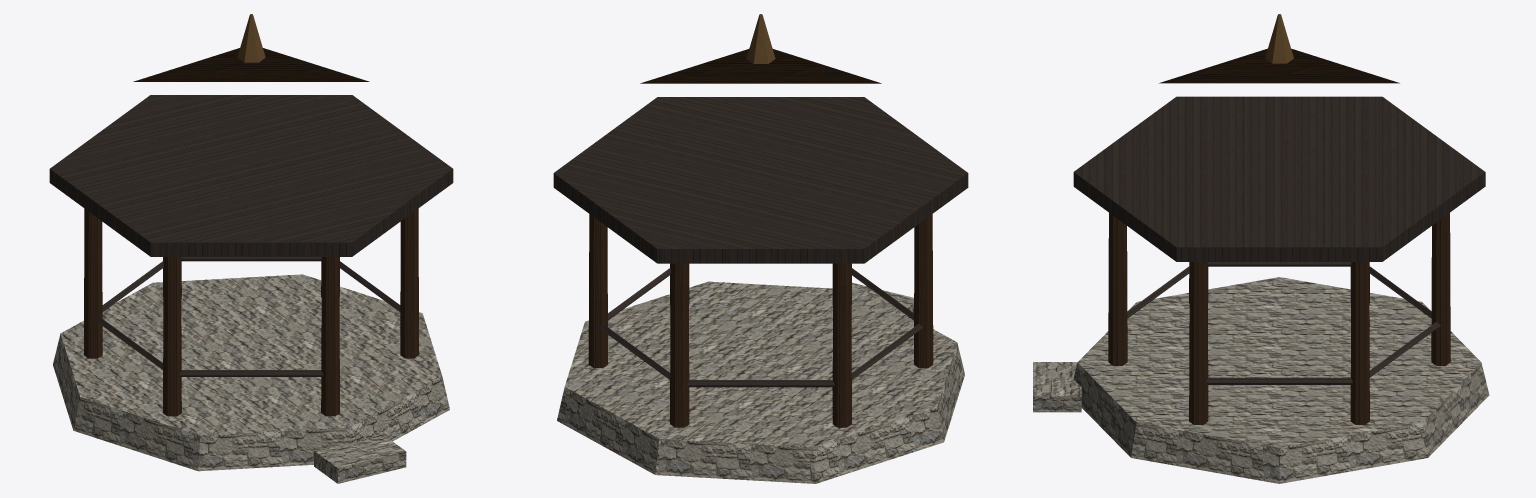
The model's file is pavilion_01.glb.
The picture shows the model from 3 angles, left to right: view 1: azimuth 30°, elevation 25°; view 2: azimuth 150°, elevation 25°; view 3: azimuth 270°, elevation 25°; orthographic projection. The views are drawn at different scales.
Parts seen in each view (by area): view 1: pavilion_01; view 2: pavilion_01; view 3: pavilion_01.
Part boxes in pixels (x1=…): pavilion_01: x1=49, y1=14, x2=453, y2=483; pavilion_01: x1=553, y1=14, x2=968, y2=483; pavilion_01: x1=1033, y1=14, x2=1489, y2=483.
Bounding box in the file's own units: 5.2 × 5.2 × 6.05.
Materials: 5 (5 with a texture image).
